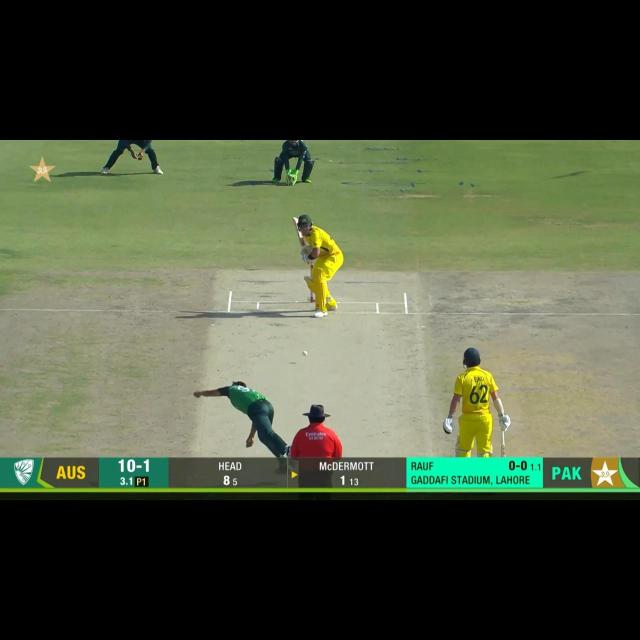bat: (292, 216, 308, 245), (500, 432, 508, 456)
toe: (291, 215, 300, 229)
